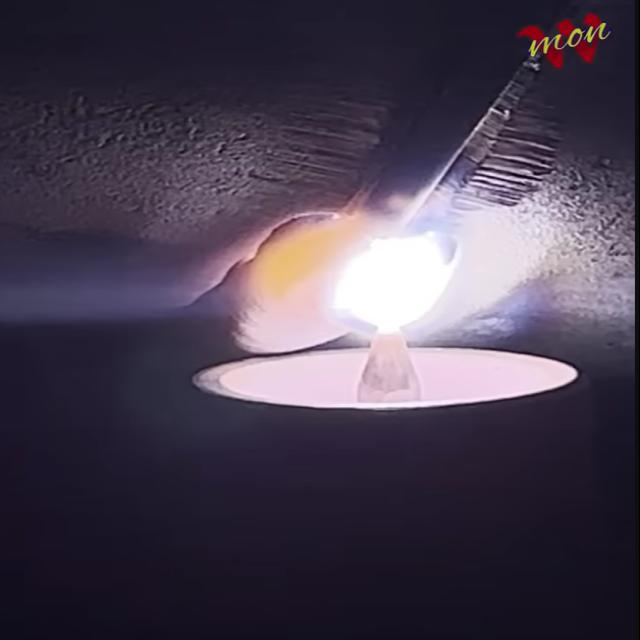welding: (338, 232, 446, 330)
